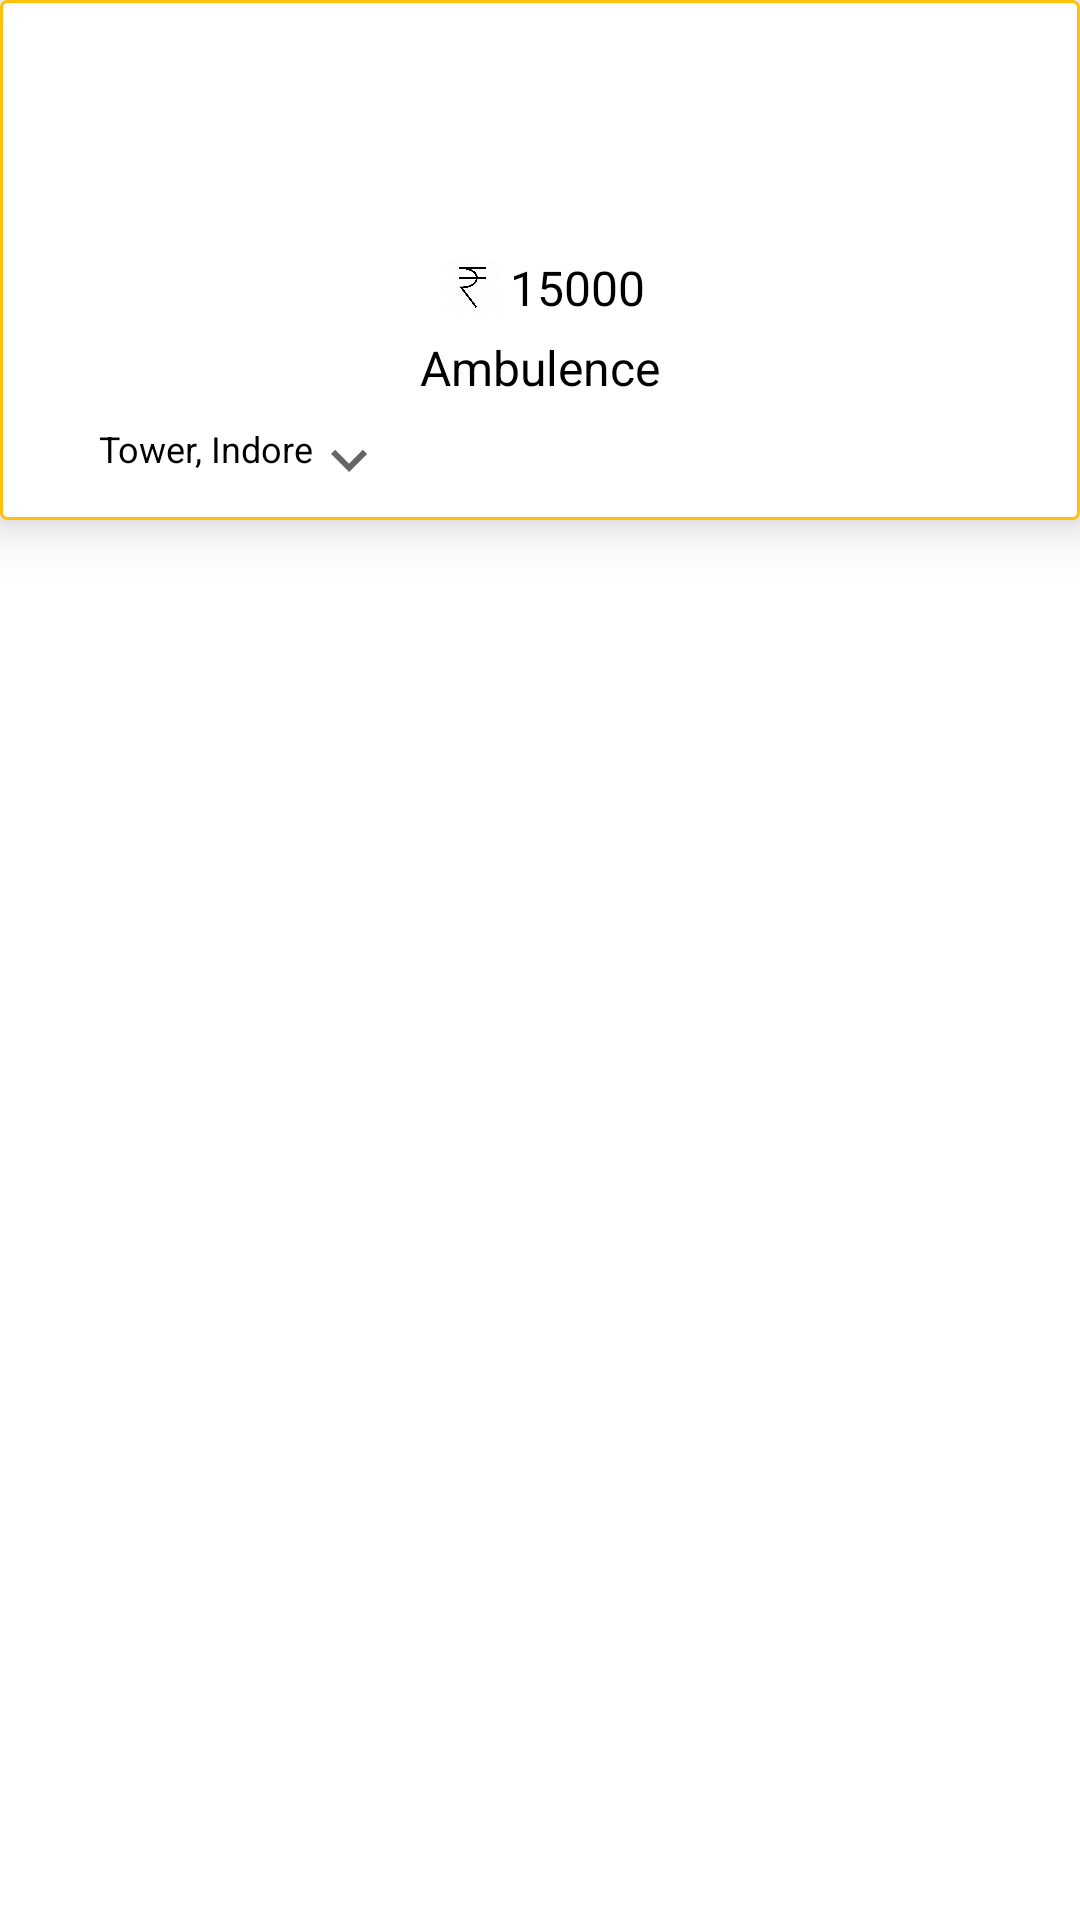

Where to tap for icons on this 1080px×1920px app screen, as point (x, y):
rupee: point (472, 287)
